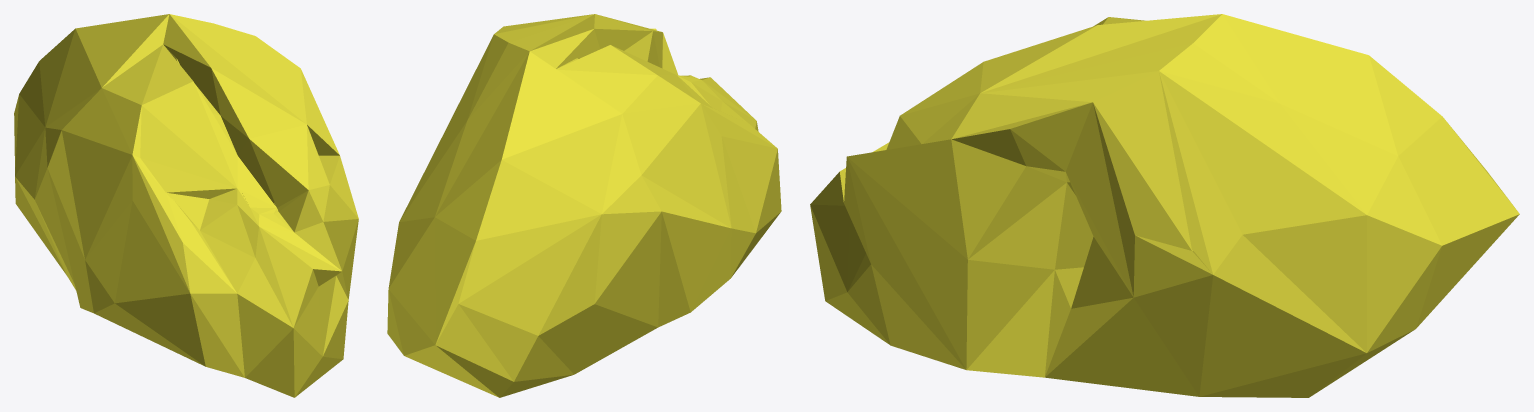
Rendered from meteor_yellow_bond_resin_04.glb.
3 renders of one model, left to right at view 1: azimuth 30°, elevation 25°; view 2: azimuth 150°, elevation 25°; view 3: azimuth 270°, elevation 25°, orthographic. The views are drawn at different scales.
Visible parts, largest first — view 1: Mesh1.003; view 2: Mesh1.003; view 3: Mesh1.003.
Boxes of the visible parts, x1,y1,x2,y2 form: Mesh1.003: (14, 14, 358, 397); Mesh1.003: (387, 14, 781, 397); Mesh1.003: (810, 14, 1519, 397).
Size of the model in its own units: 1.37 by 1.54 by 2.83.
